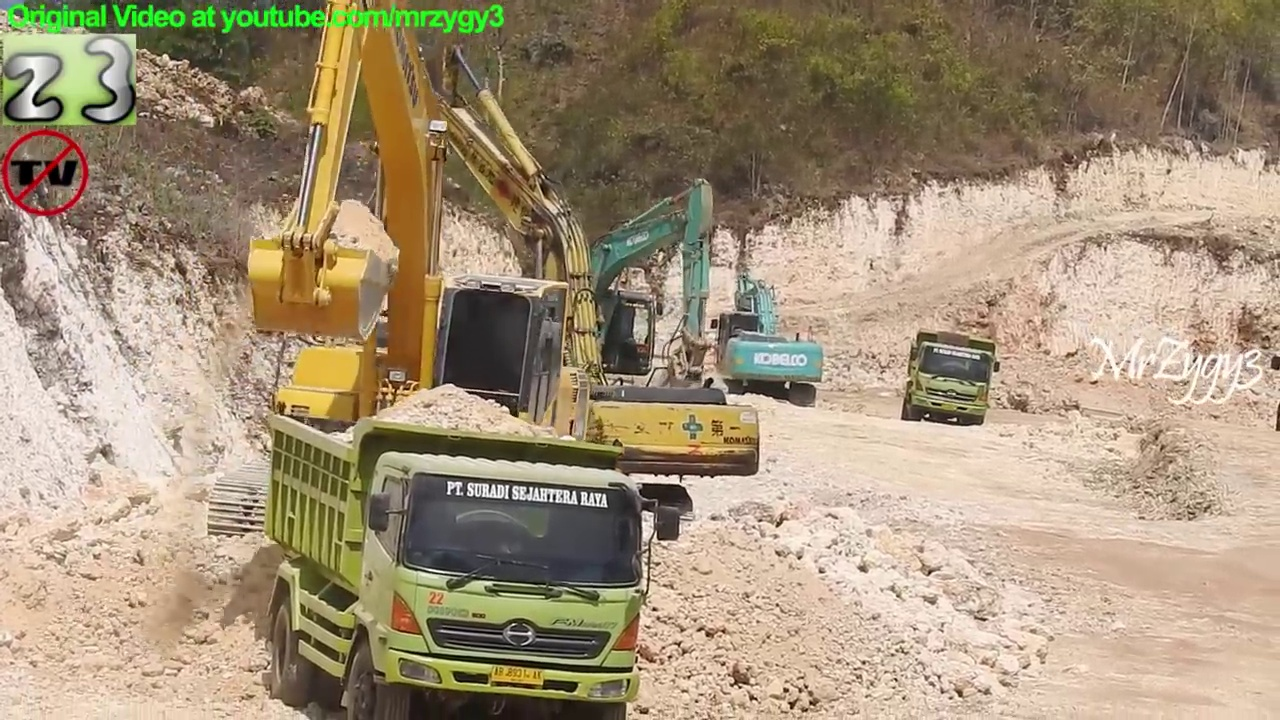excavator: (203, 1, 634, 550), (338, 34, 762, 544), (491, 171, 730, 458), (710, 226, 833, 413)
truck: (261, 407, 700, 720), (900, 327, 1005, 433)
